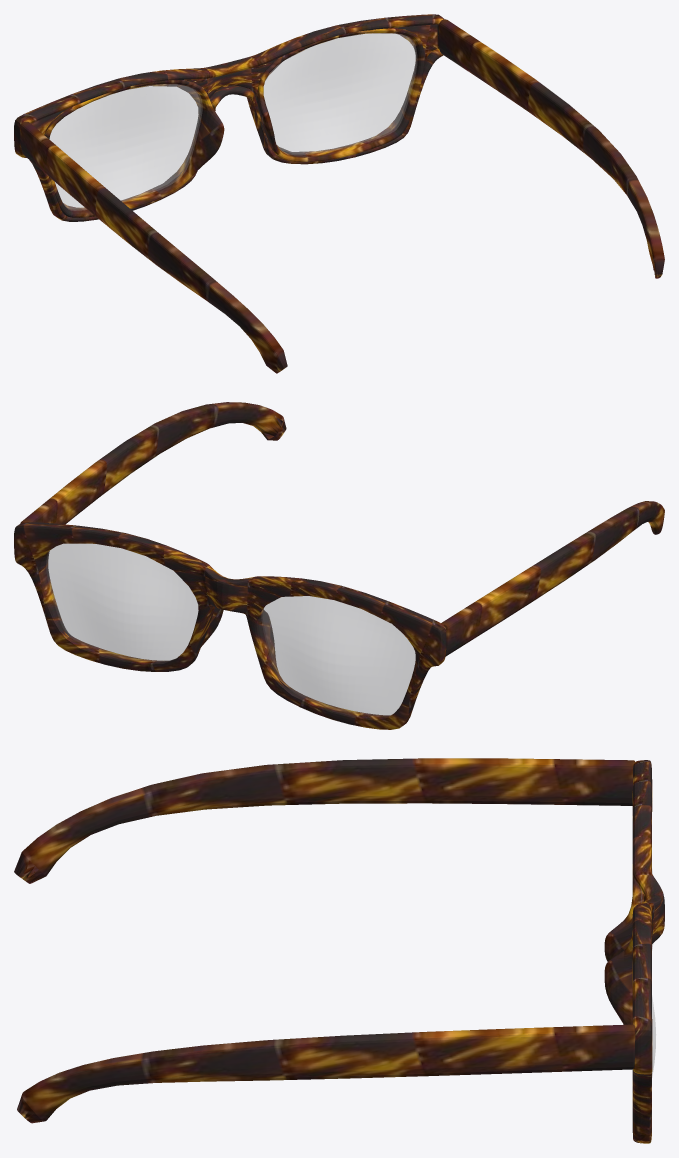
File: fullspec.glb
3 views of the same model, one above another, from view 1: azimuth 30°, elevation 25°; view 2: azimuth 150°, elevation 25°; view 3: azimuth 270°, elevation 25° (orthographic). The views are drawn at different scales.
Visible parts, largest first — view 1: lens, frame, handles; view 2: lens, frame, handles; view 3: handles, frame.
Boxes of the visible parts, box(x1,y1,x2,y2) form: lens: box(49, 33, 417, 210); frame: box(14, 14, 444, 221); handles: box(20, 19, 664, 373); lens: box(46, 544, 415, 715); frame: box(14, 522, 446, 729); handles: box(20, 402, 664, 656); handles: box(14, 758, 635, 1123); frame: box(604, 760, 664, 1143).
Bounding box in the file's own units: 3.5 × 0.9927 × 3.41.
Materials: 2 (1 with a texture image).
